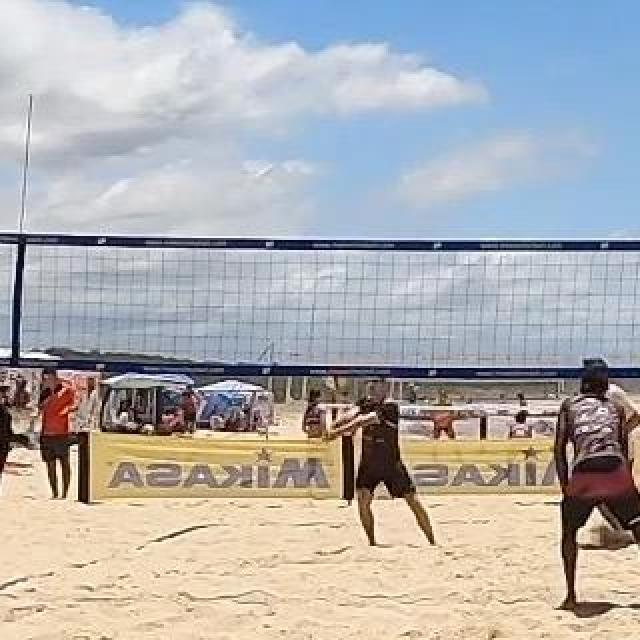volleyball: (322, 367, 348, 391)
